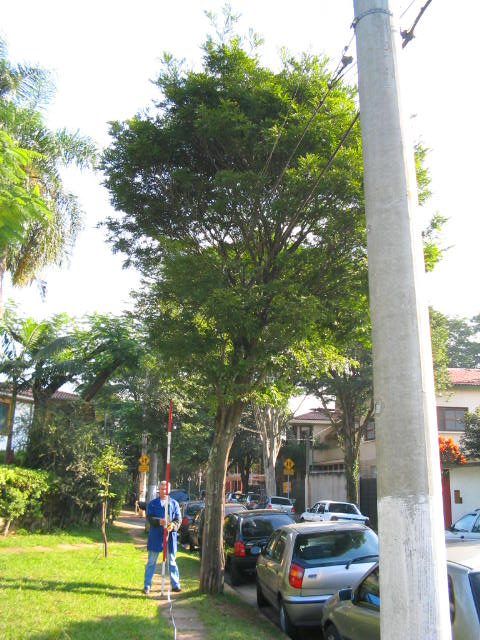crown: (99, 6, 450, 421)
stem: (192, 417, 249, 595)
stick: (152, 399, 178, 600)
tree: (96, 5, 452, 597)
